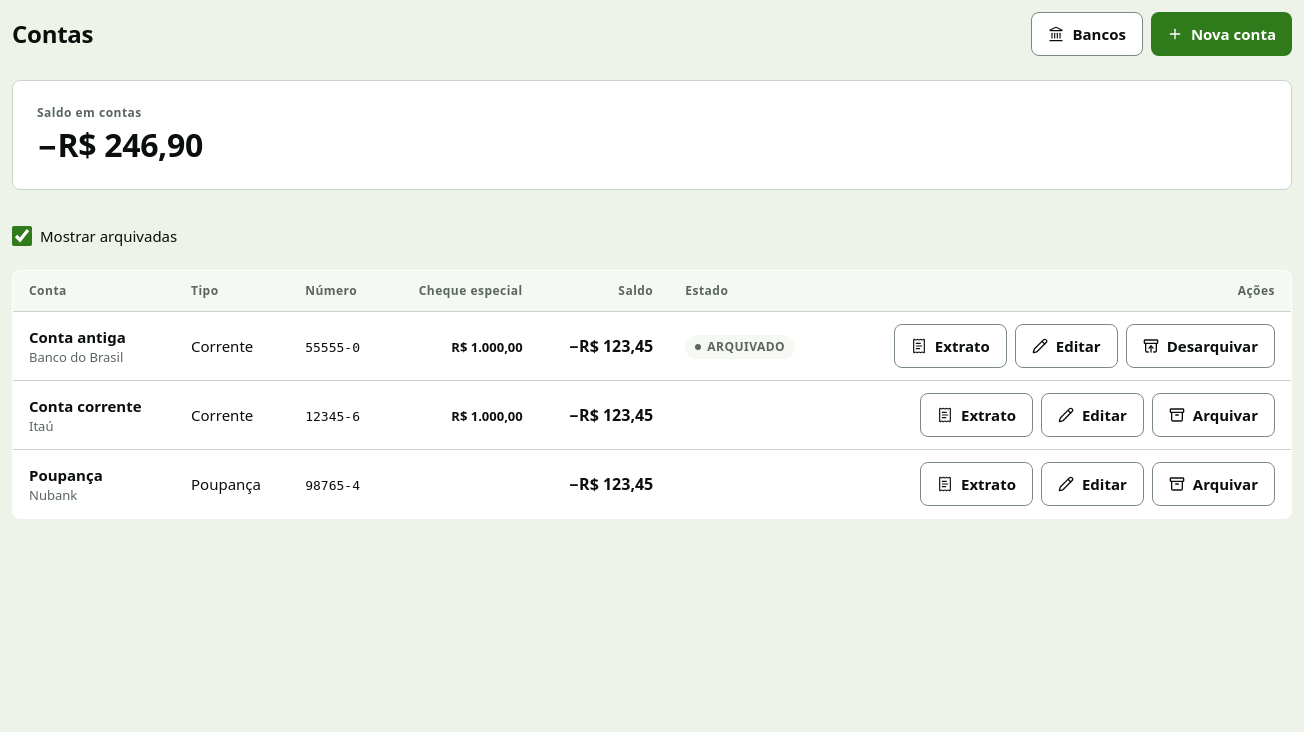
Test: write controls with accounts.write (ADMIN) › archives an account with POST and unarchives with DELETE /…/archive
The width and height of the screenshot is (1304, 732).
Step 1. Click the button with aria-label "Arquivar Conta corrente" → x=1213, y=415, box [1152,393,1275,437]
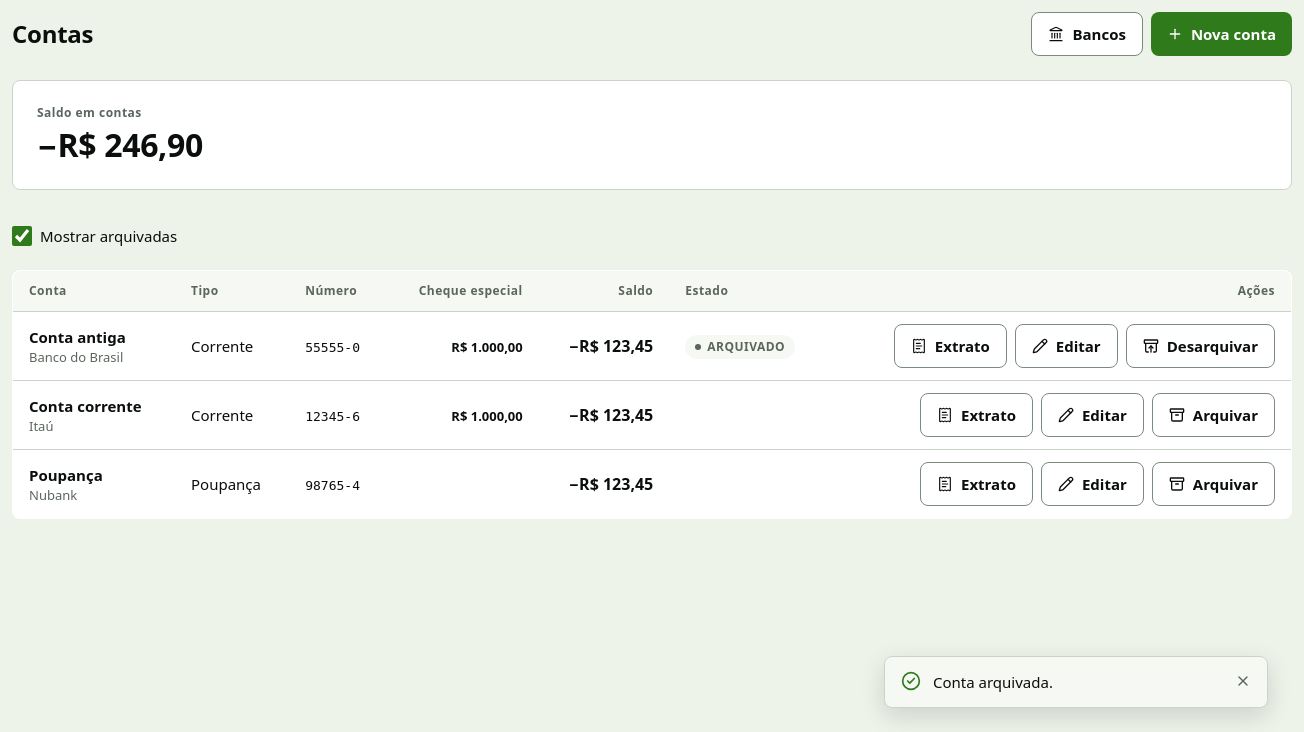
Now the text "Conta arquivada." is shown, box [933,672,1053,692]
Step 2. Click the button with aria-label "Desarquivar Conta antiga" → x=1200, y=346, box [1126,324,1275,368]
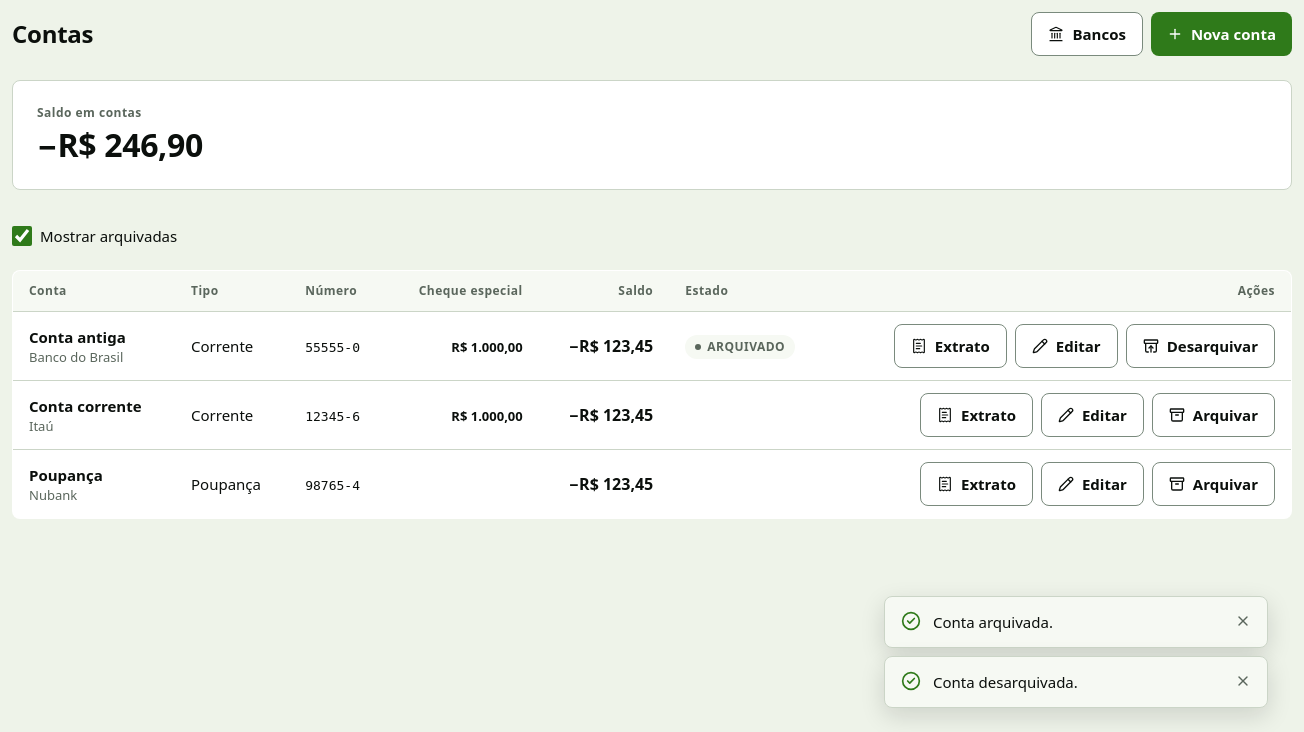
Now the text "Conta desarquivada." is shown, box [933,672,1078,692]
